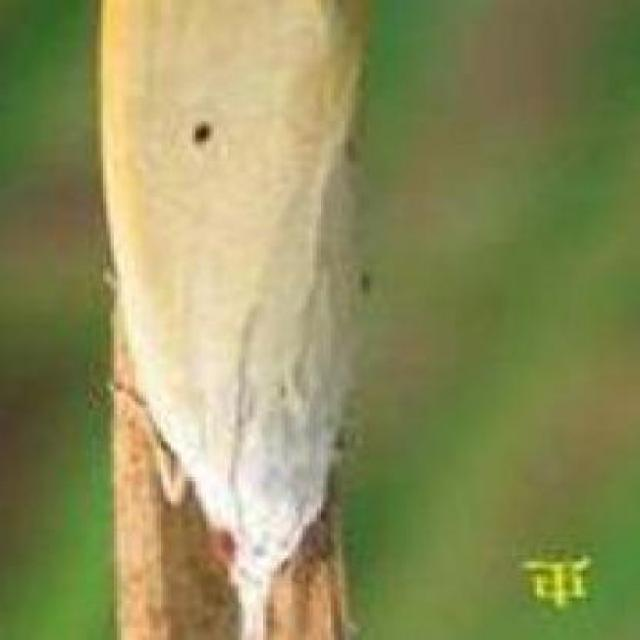stem-borer: (97, 0, 369, 640)
